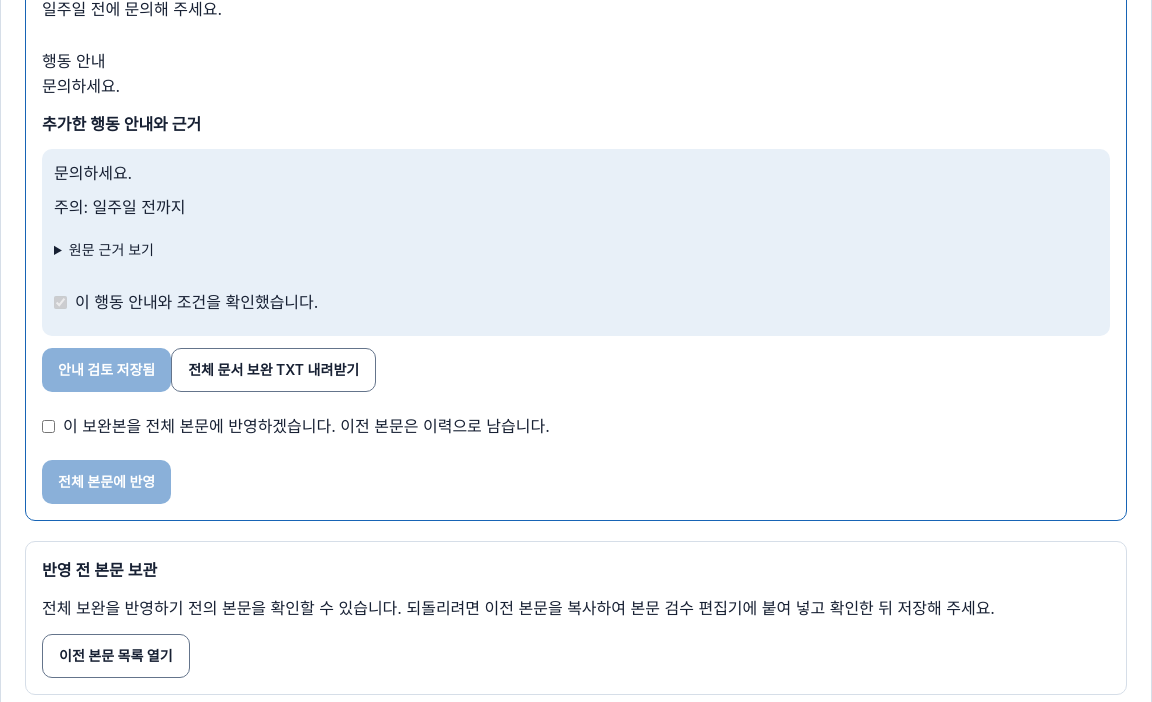
Test: 행동 분석과 보완 흐름 › 전체 적용 충돌은 부모에 알리고 로컬 본문을 바꾸지 않는다
(page scrolled)
Click the checkbox labelled "이 보완본을 전체 본문에 반영하겠습니다. 이전 본문은 이력으로 남습니다.": (48, 426) [42, 420, 55, 433]
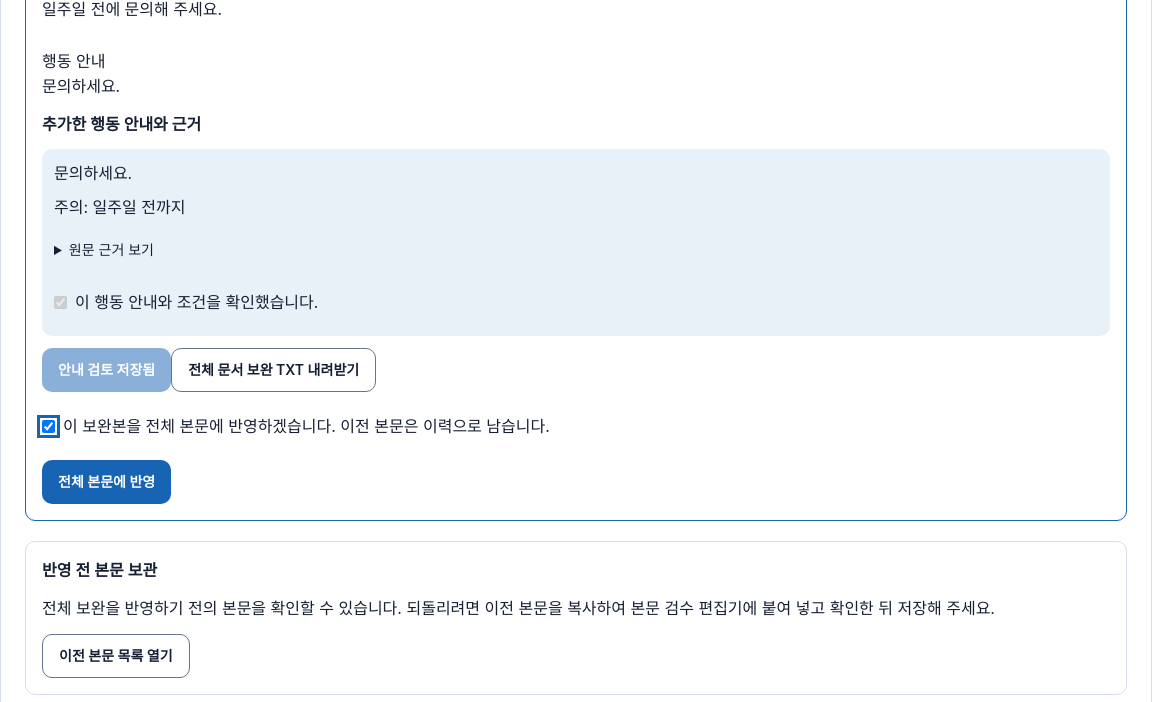
Click the button "전체 본문에 반영": (107, 482) [42, 460, 171, 504]
(page scrolled)
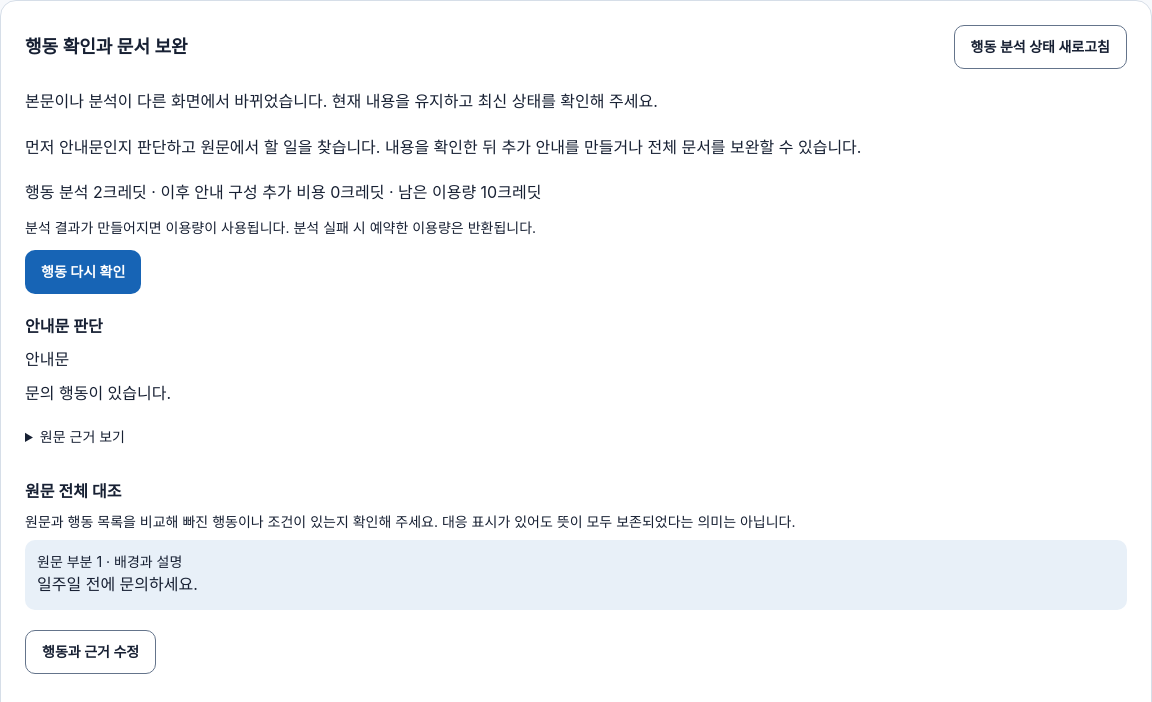
Check: the message shows "현재 내용을 유지", box [25, 91, 658, 111]
